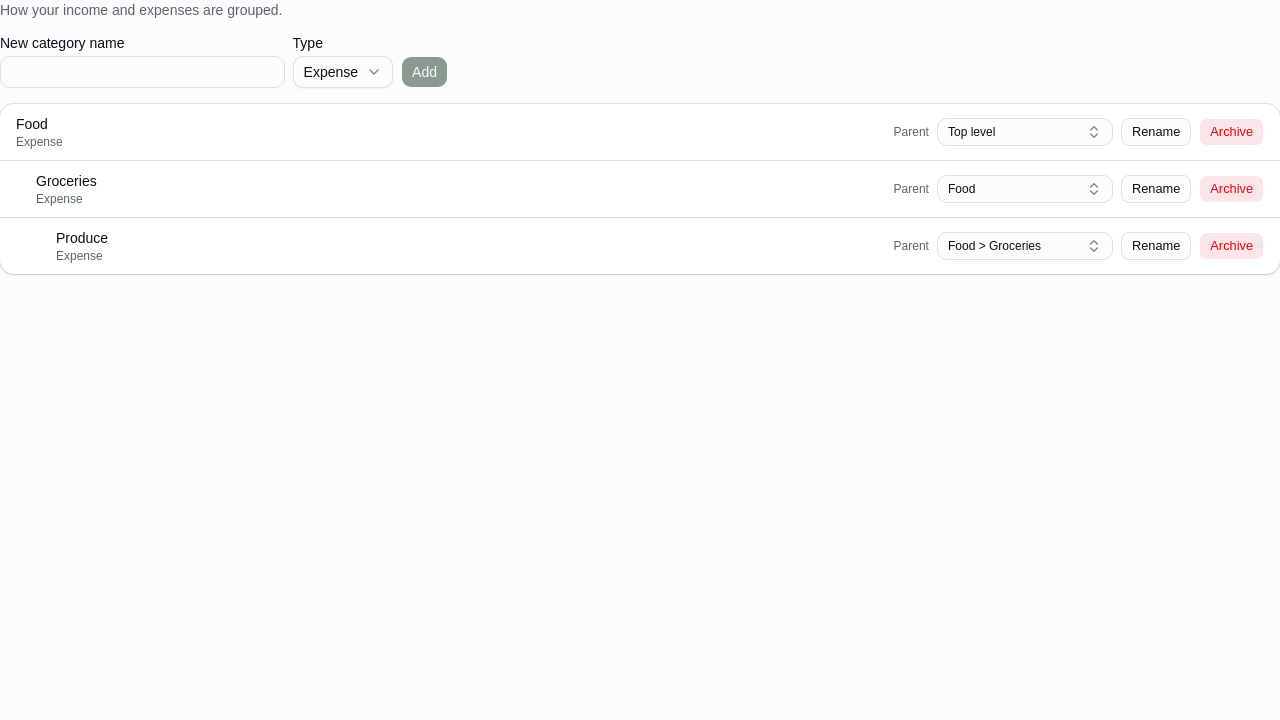
it: CategoriesSettings › shows a nested category’s full path in its own Parent combobox once opened
Click the dropdown named "Parent".
click(1025, 246)  # box top-left (937, 232), bottom-right (1113, 260)
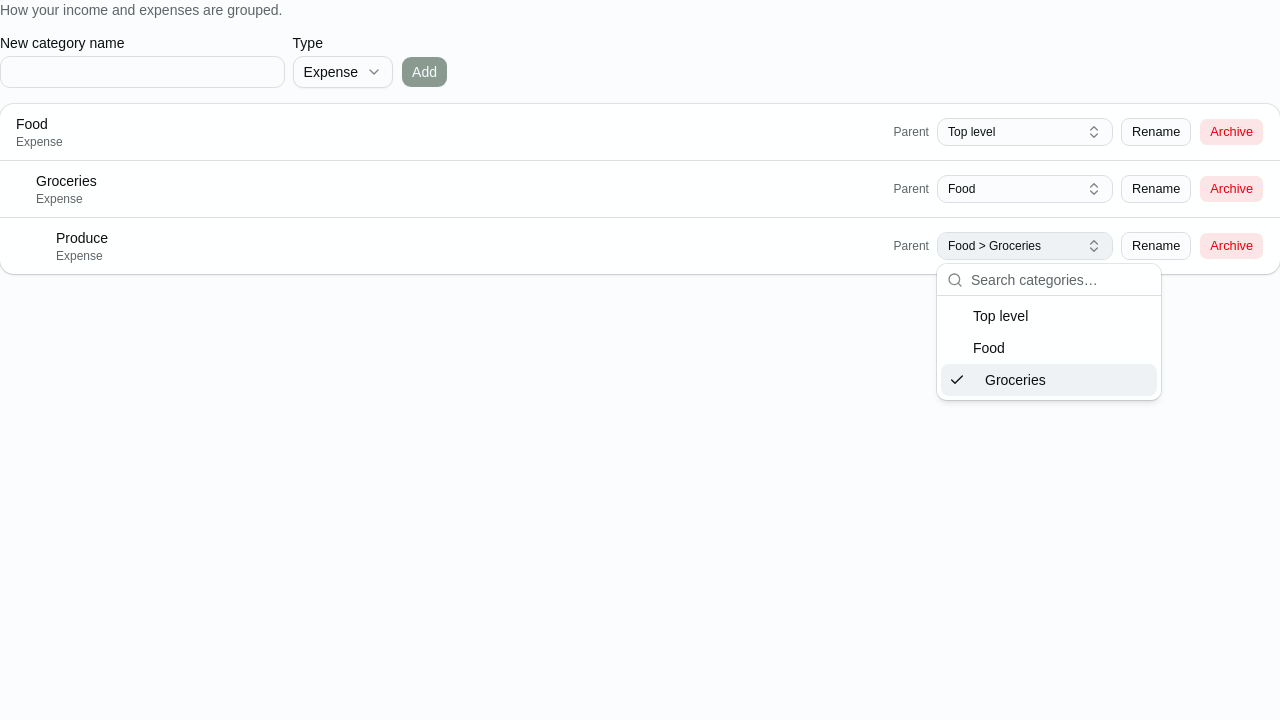
Check: the option "Groceries" is shown, box top-left (941, 364), bottom-right (1157, 396)
